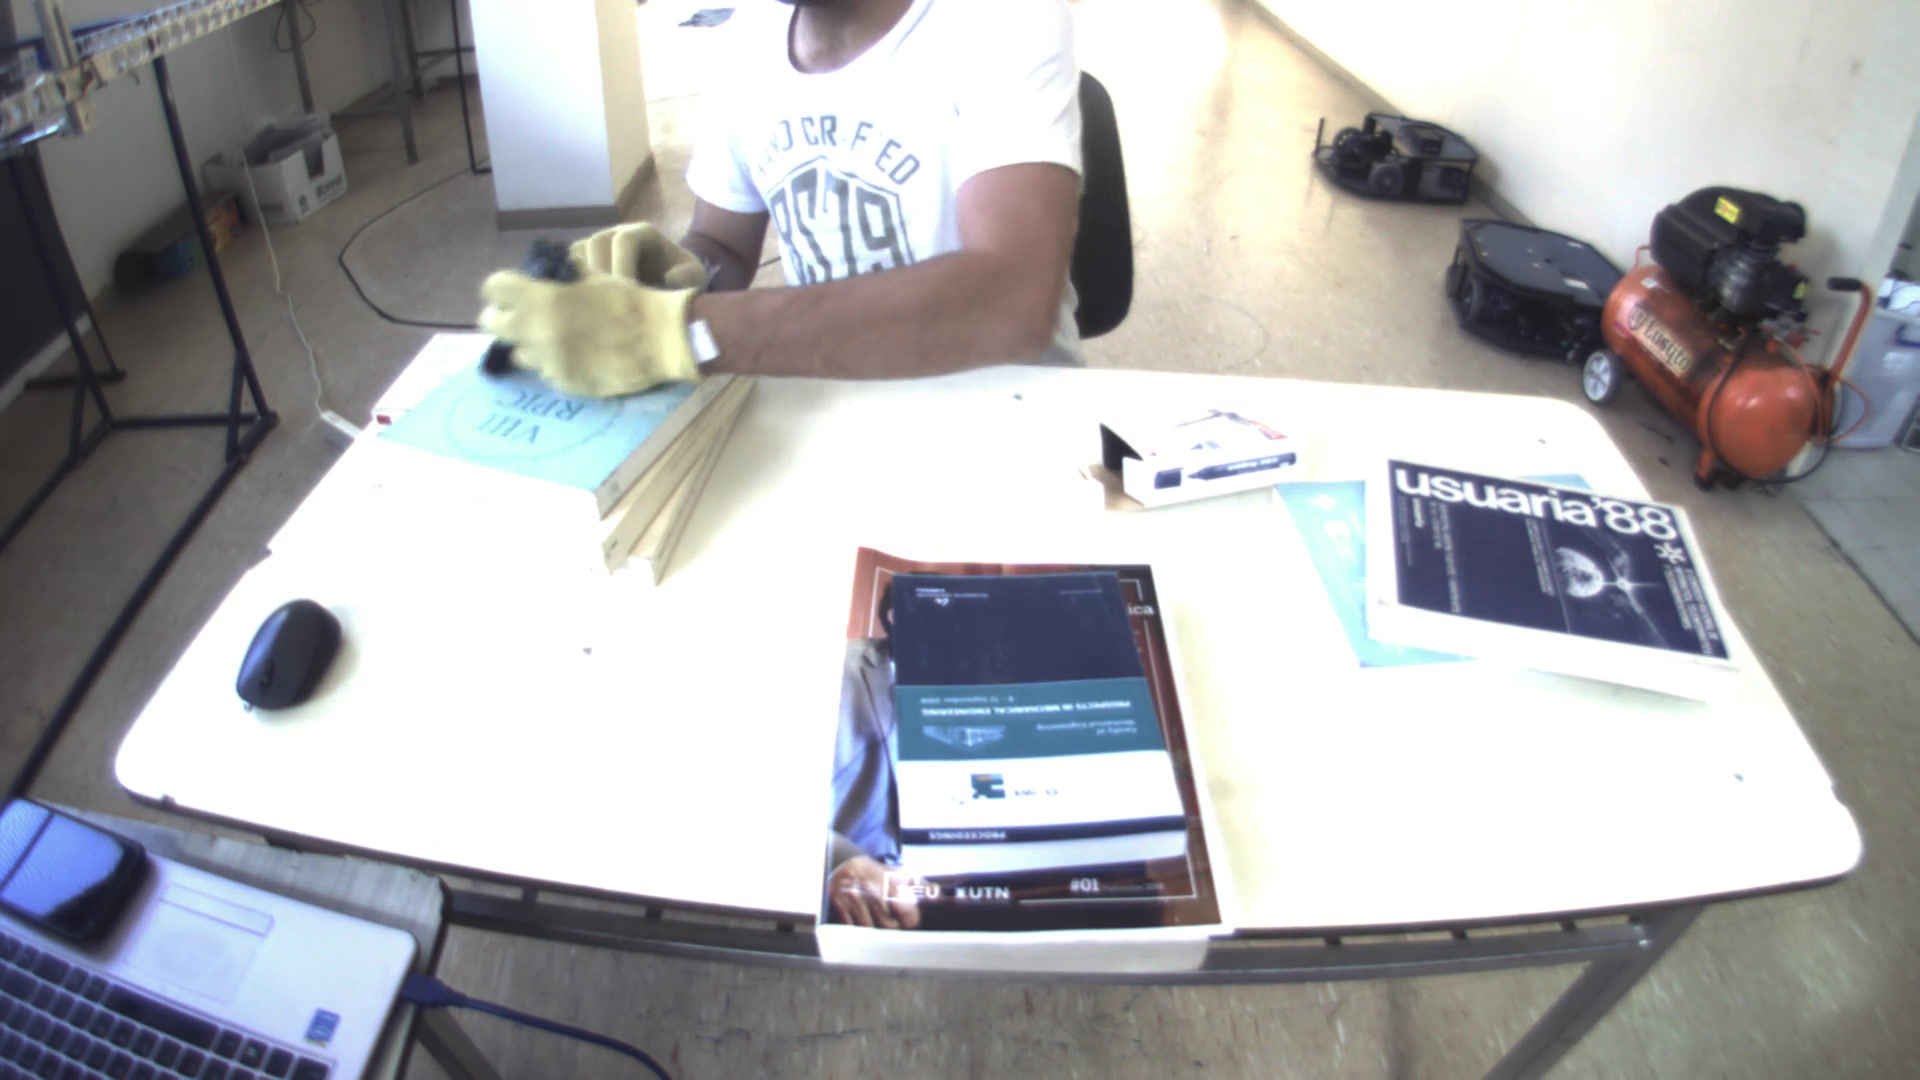hand: (463, 255, 694, 401)
